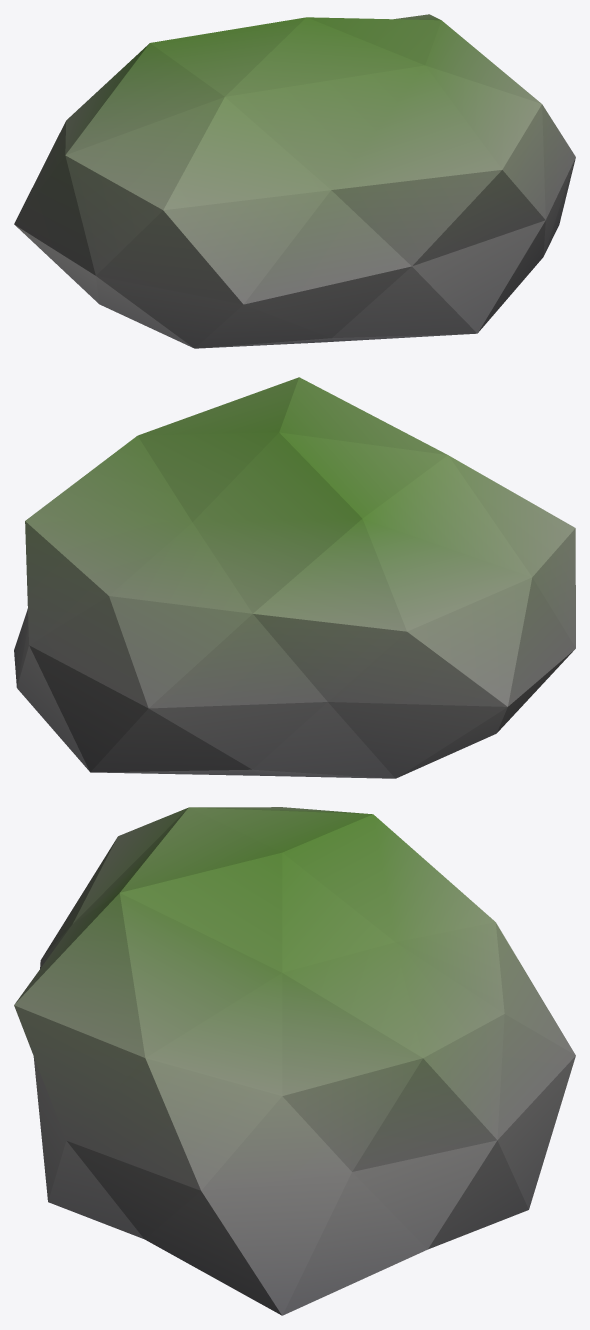
Rendered from f_rock2.glb.
3 renders of one model, top to bottom at view 1: azimuth 30°, elevation 25°; view 2: azimuth 150°, elevation 25°; view 3: azimuth 270°, elevation 25°, orthographic. The views are drawn at different scales.
Parts seen in each view (by area): view 1: rock2; view 2: rock2; view 3: rock2.
Part boxes in pixels (box(x1,y1,x2,y2)): rock2: box(14, 14, 575, 348); rock2: box(14, 377, 575, 778); rock2: box(14, 807, 575, 1315).
Bounding box in the file's own units: 2.36 × 1.2 × 1.92.
